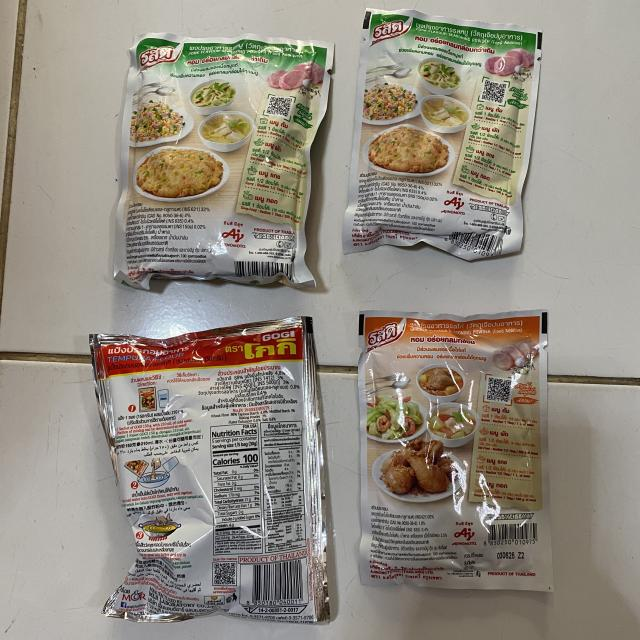plastik: (90, 317, 330, 624), (114, 33, 334, 289), (359, 309, 553, 591), (342, 9, 542, 260)
